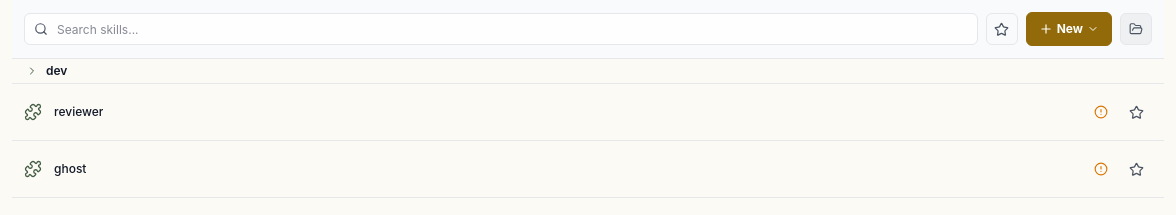
Test: LibraryList › shows the empty starred state only when genuinely nothing is starred
This screenshot has width=1176, height=215.
Click the button with test id "library-star-filter" at (1002, 29), box [986, 13, 1018, 45]
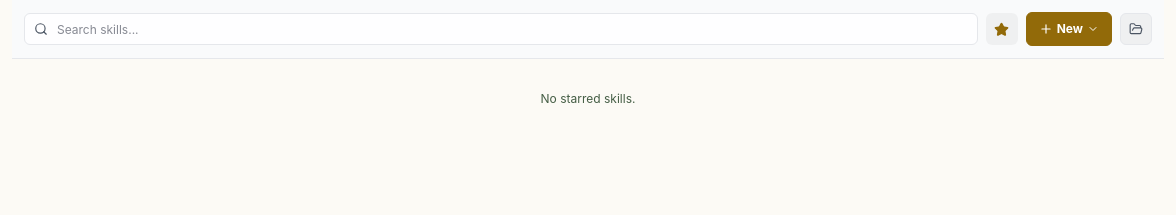
Expected: the text with test id "library-list-empty" reads "No starred skills.", [541, 91, 635, 106]
